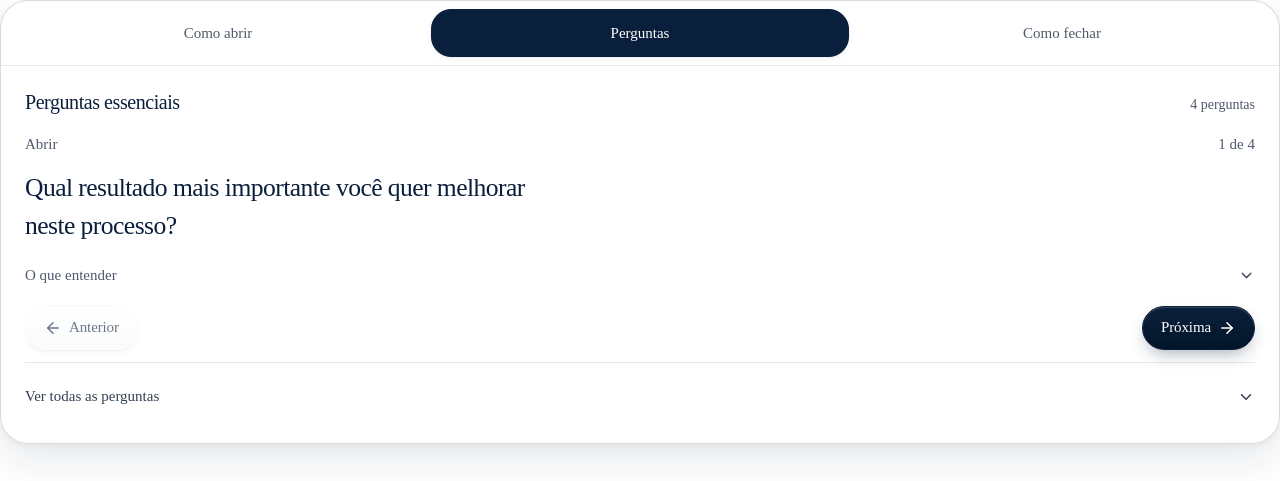
Scenario: RoteiroPreparacao › permite abrir e fechar sem percorrer perguntas nem registrar conclusão
Click the button "Como abrir": click(218, 33) left=9, top=9, right=427, bottom=57
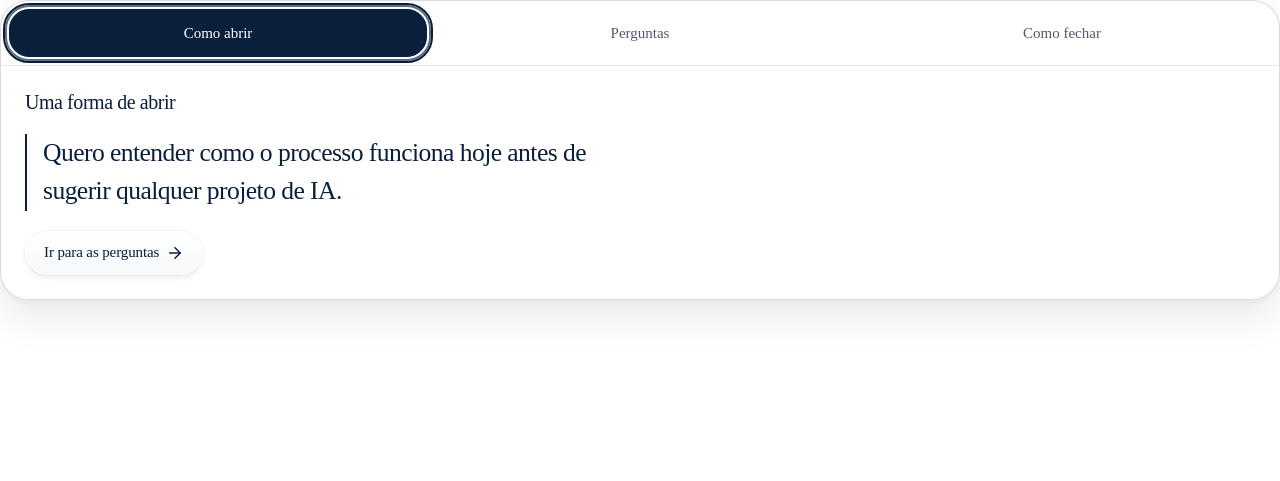
Expected: the text "Quero entender como o processo funciona hoje antes de sugerir qualquer projeto de IA." is shown, left=43, top=138, right=586, bottom=205
Click the button "Ir para as perguntas": click(114, 253) left=25, top=231, right=203, bottom=275
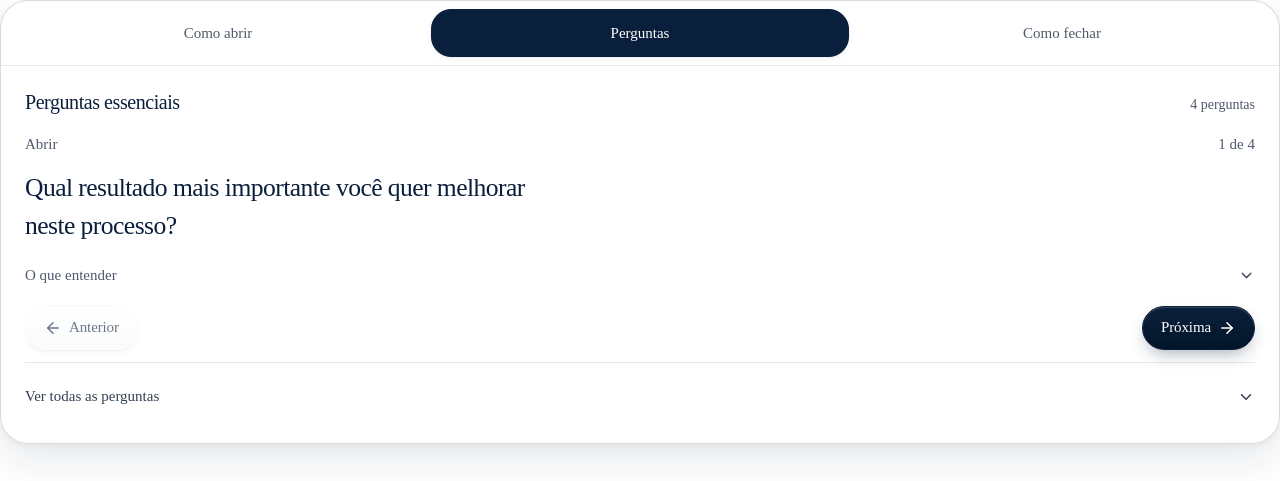
Expected: the text "1 de 4" is shown, left=1218, top=132, right=1255, bottom=157
Click the button "Como fechar": click(1062, 33) left=853, top=9, right=1271, bottom=57
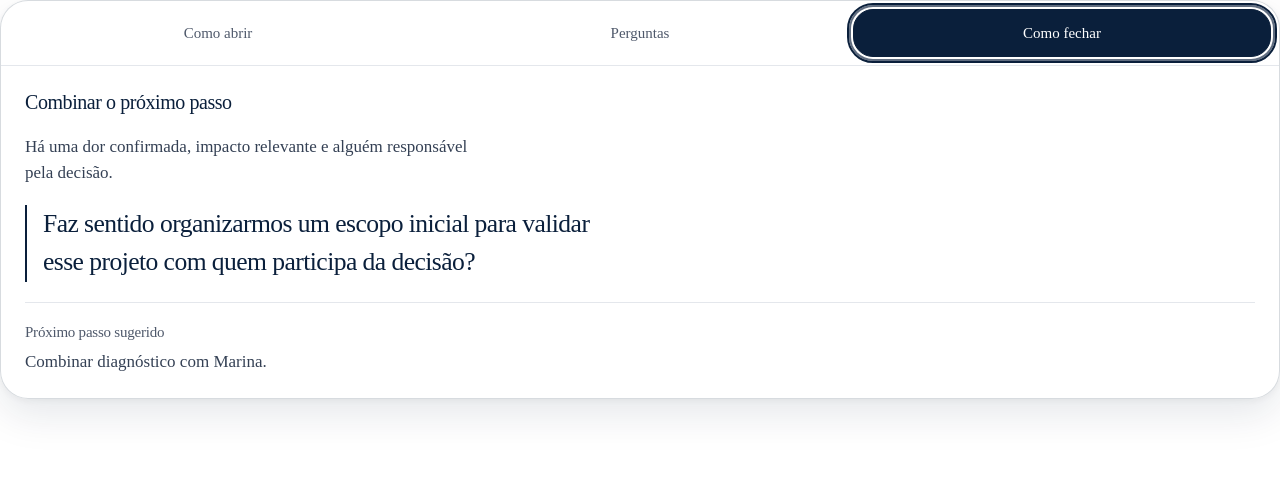
Expected: the text "Há uma dor confirmada, impacto relevante e alguém responsável pela decisão." is shown, left=25, top=134, right=501, bottom=185
